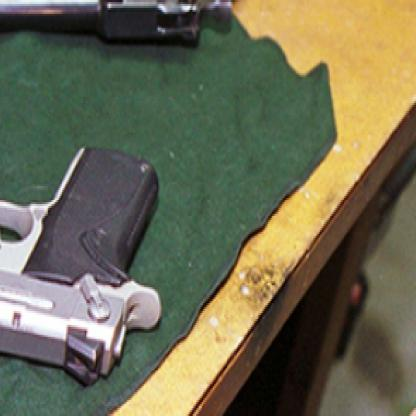gun: (0, 141, 169, 396), (0, 0, 262, 60)
